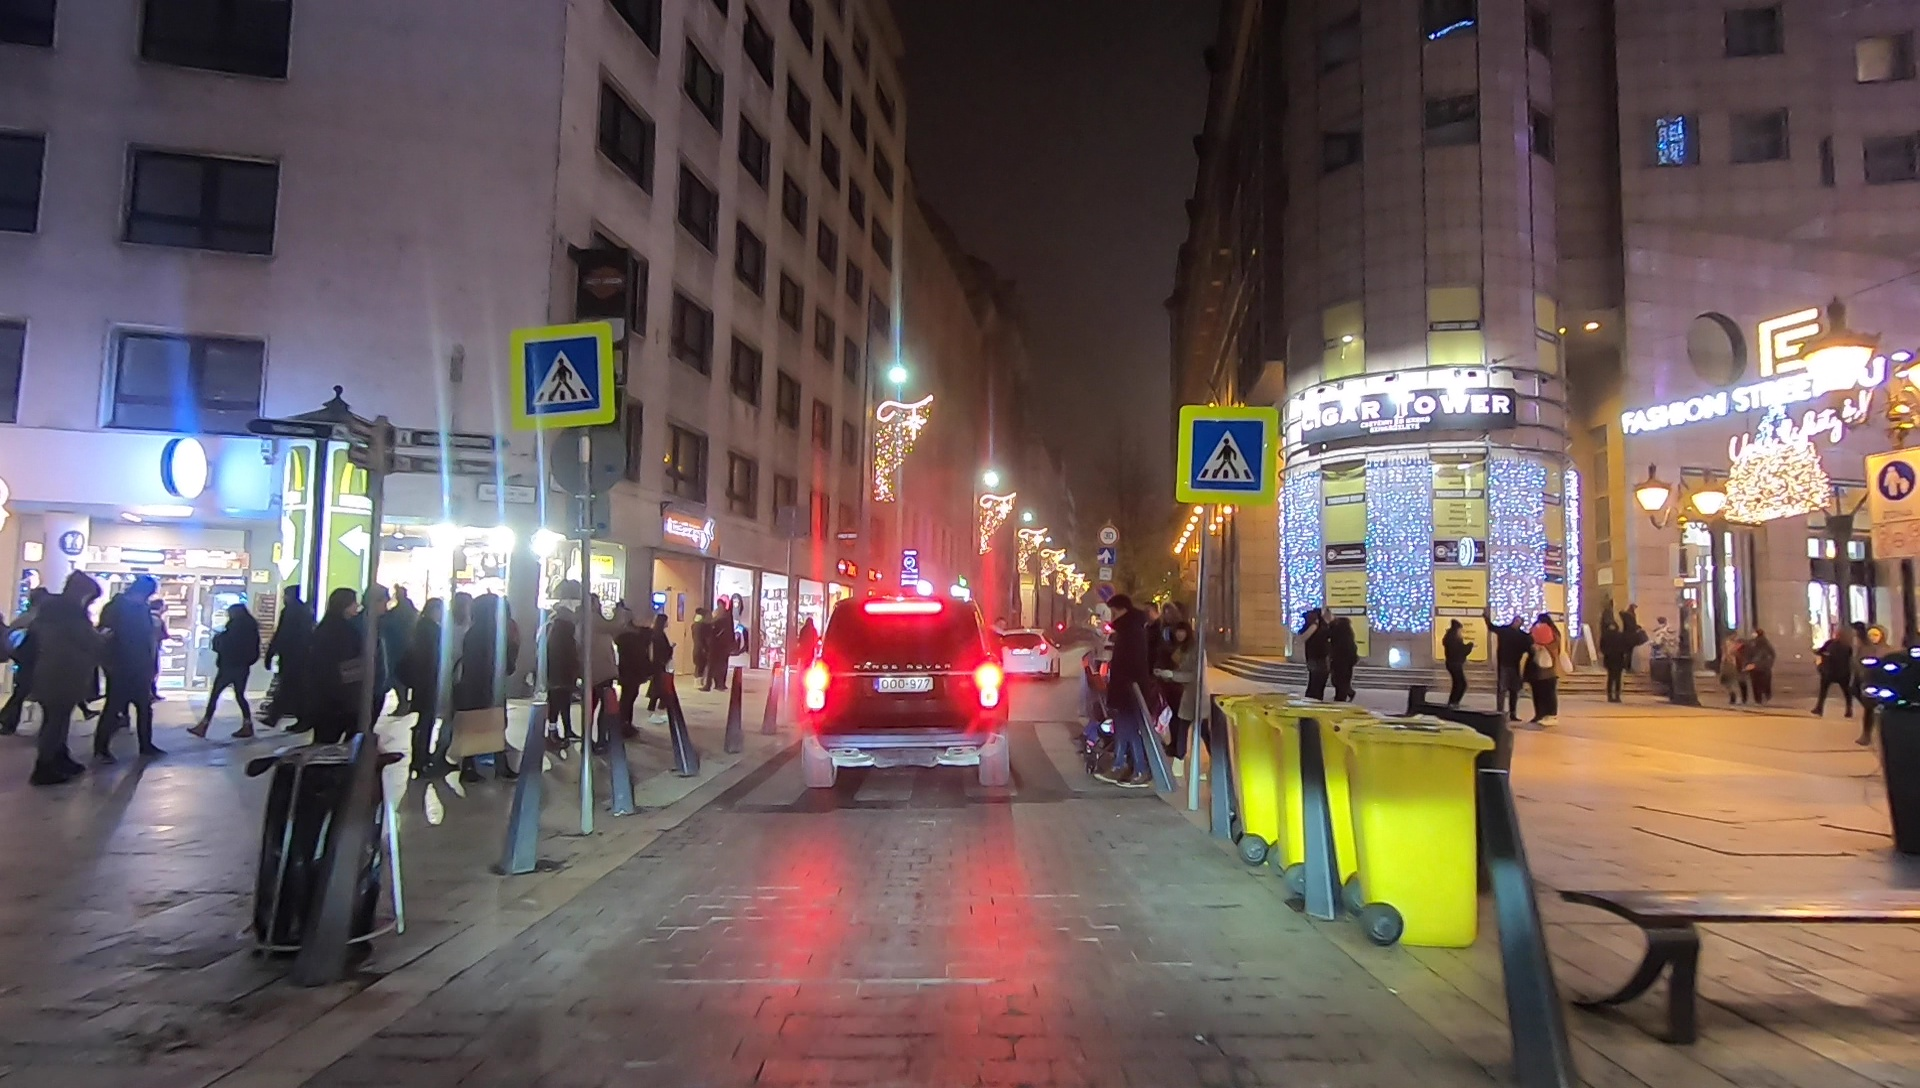person: (34, 571, 90, 783), (1092, 600, 1154, 787), (103, 577, 163, 755), (197, 600, 260, 742), (314, 586, 360, 763), (1167, 630, 1219, 783), (580, 595, 620, 744), (269, 585, 309, 727), (1480, 606, 1529, 720), (415, 598, 446, 777), (546, 605, 582, 745), (1154, 601, 1186, 758), (1527, 615, 1564, 729), (389, 583, 418, 725), (649, 616, 680, 725), (1442, 618, 1475, 709), (1300, 611, 1329, 702), (706, 600, 732, 693), (1329, 616, 1354, 702)
